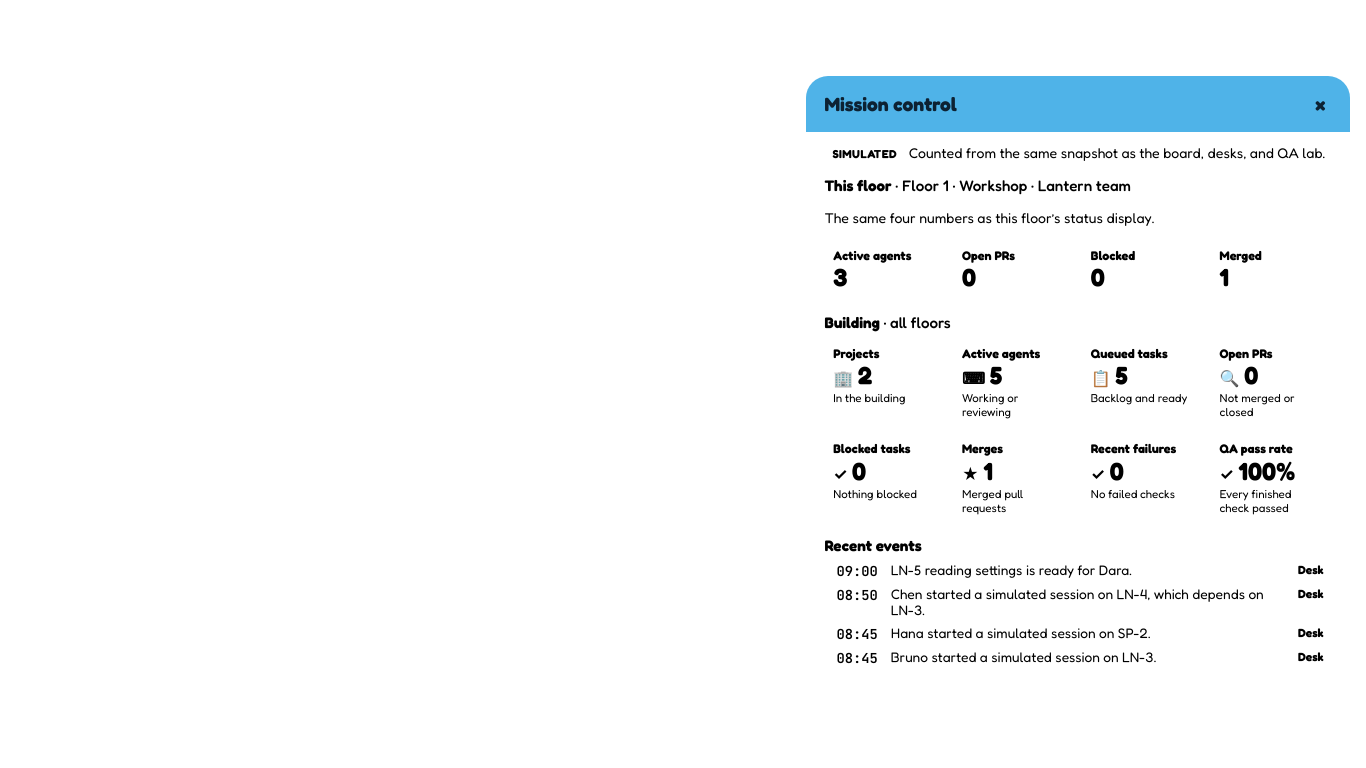
Test case: mission control, demo scenarios › opens a desk from the feed, offering the ride when the agent is upstairs
Click the button with aria-label "Open Hana's desk".
click(1311, 632)  # box [1290,624,1332,640]
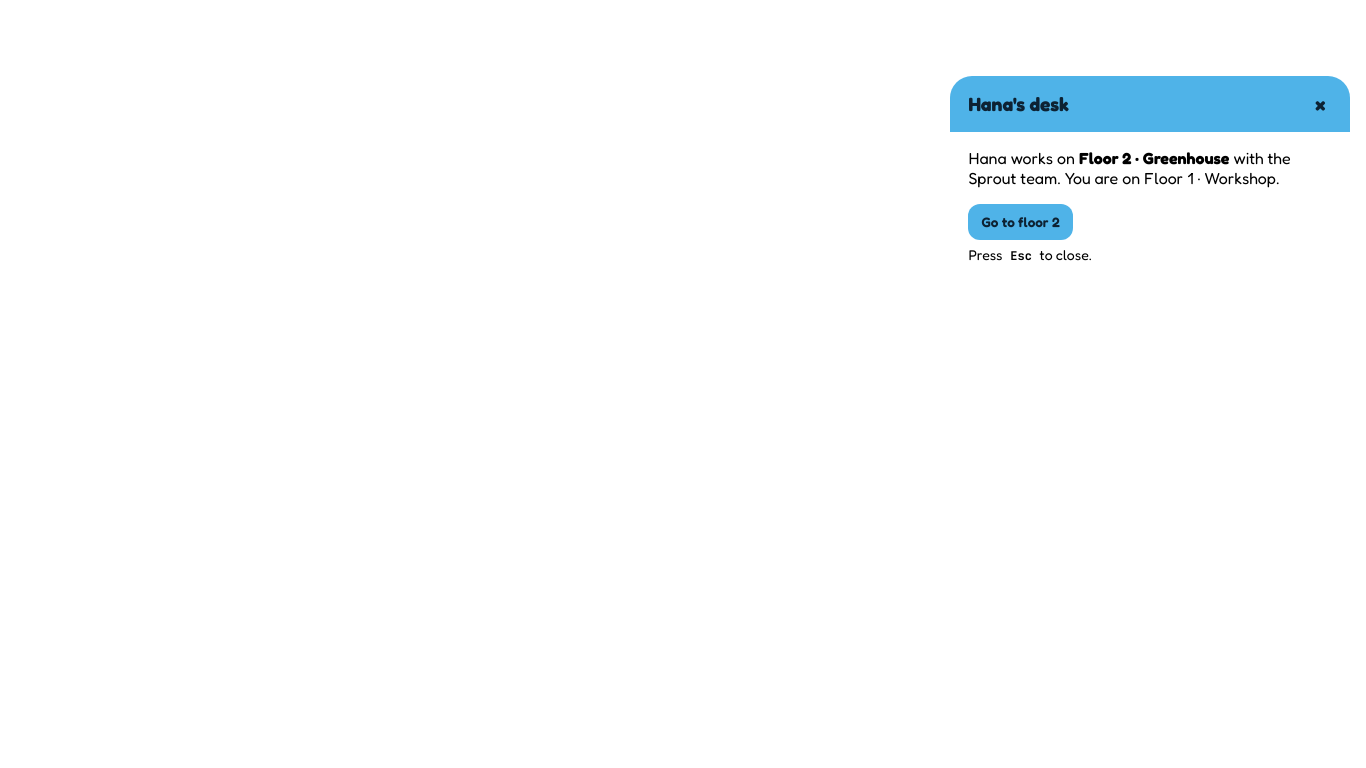
Expected: the button "Go to floor 2" is shown, [968,204,1072,240]
